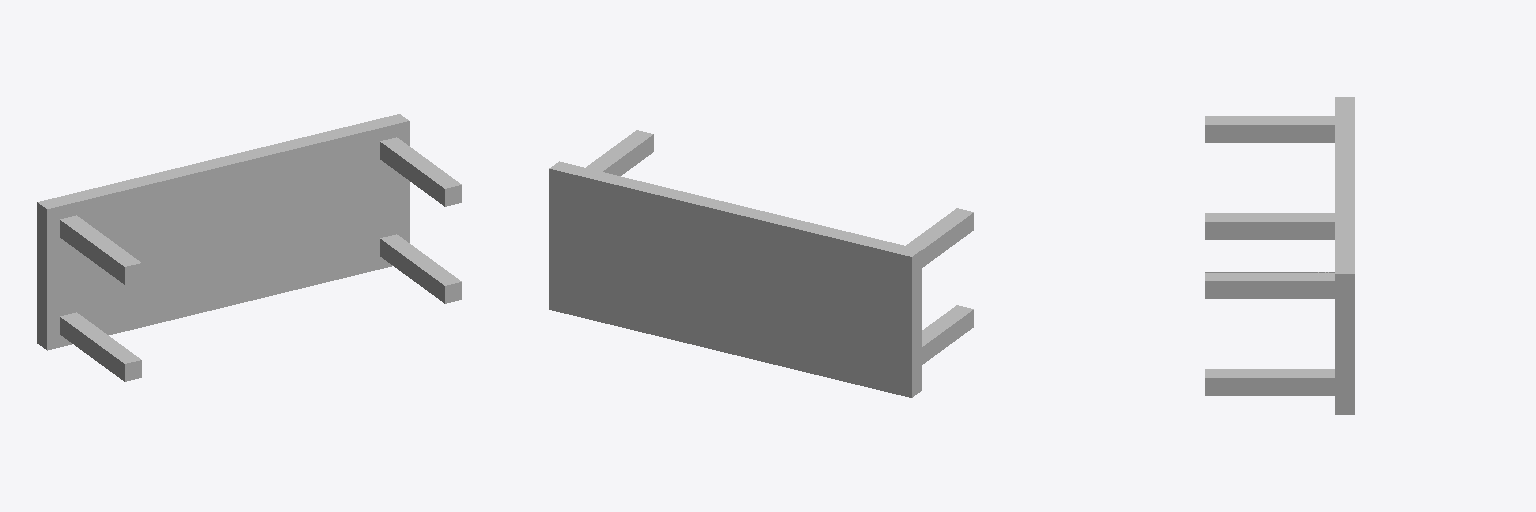
The model's file is random_table98.obj.
The picture shows the model from 3 angles: view 1: azimuth 30°, elevation 25°; view 2: azimuth 150°, elevation 25°; view 3: azimuth 270°, elevation 25°; orthographic projection.
Visible parts, largest first — view 1: Table_Cube.1555, TableLeg0_Cube.1556, TableLeg2_Cube.1558, TableLeg3_Cube.1559, TableLeg1_Cube.1557; view 2: Table_Cube.1555, TableLeg1_Cube.1557, TableLeg3_Cube.1559, TableLeg0_Cube.1556; view 3: Table_Cube.1555, TableLeg0_Cube.1556, TableLeg1_Cube.1557, TableLeg2_Cube.1558, TableLeg3_Cube.1559.
Part boxes in pixels (bbox=[...]): Table_Cube.1555: bbox=[37, 114, 409, 350]; TableLeg0_Cube.1556: bbox=[380, 137, 461, 206]; TableLeg2_Cube.1558: bbox=[380, 234, 461, 303]; TableLeg3_Cube.1559: bbox=[60, 312, 141, 381]; TableLeg1_Cube.1557: bbox=[60, 215, 141, 284]; Table_Cube.1555: bbox=[549, 161, 921, 397]; TableLeg1_Cube.1557: bbox=[906, 208, 973, 267]; TableLeg3_Cube.1559: bbox=[922, 305, 973, 364]; TableLeg0_Cube.1556: bbox=[586, 130, 653, 175]; Table_Cube.1555: bbox=[1335, 97, 1354, 414]; TableLeg0_Cube.1556: bbox=[1205, 272, 1334, 298]; TableLeg1_Cube.1557: bbox=[1205, 116, 1334, 142]; TableLeg2_Cube.1558: bbox=[1205, 369, 1334, 395]; TableLeg3_Cube.1559: bbox=[1205, 213, 1334, 239].
Size of the model in its own units: 11.65 by 4.34 by 4.17.